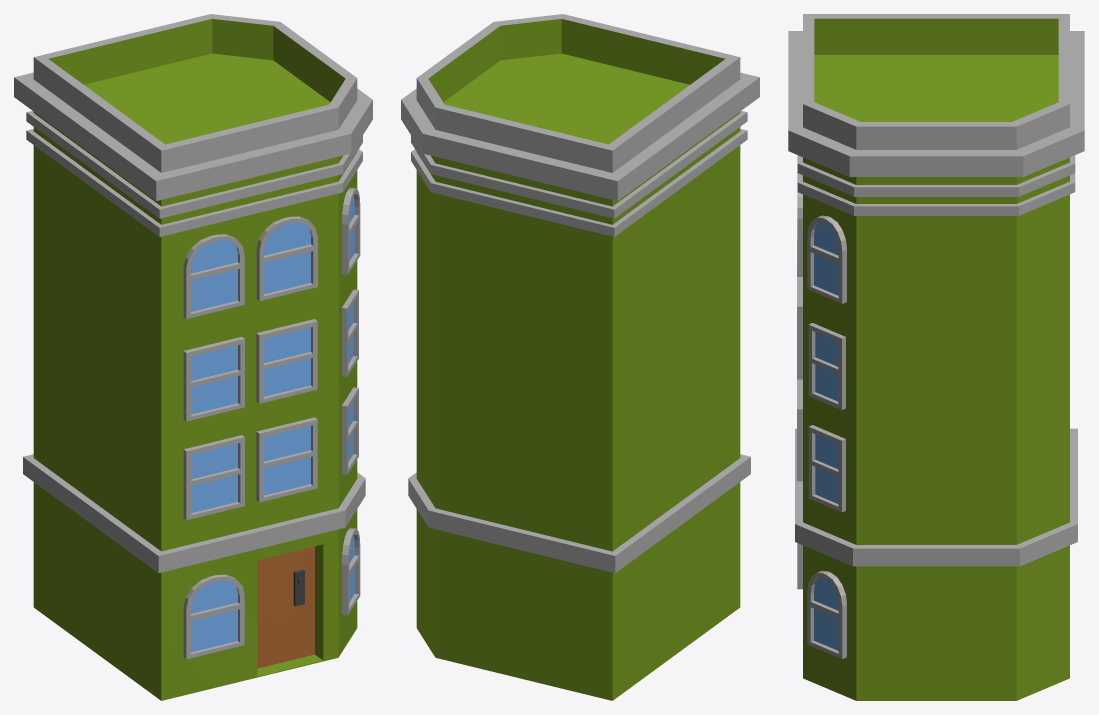
File: Building 1.fbx
3 renders of one model, left to right at view 1: azimuth 30°, elevation 25°; view 2: azimuth 150°, elevation 25°; view 3: azimuth 270°, elevation 25°, orthographic. The views are drawn at different scales.
Visible parts, largest first — view 1: Building 1; view 2: Building 1; view 3: Building 1.
Boxes of the visible parts, <box> form: Building 1: <box>14,14,372,700</box>; Building 1: <box>401,14,759,700</box>; Building 1: <box>788,14,1084,700</box>.
Size of the model in its own units: 242 by 516 by 242.
